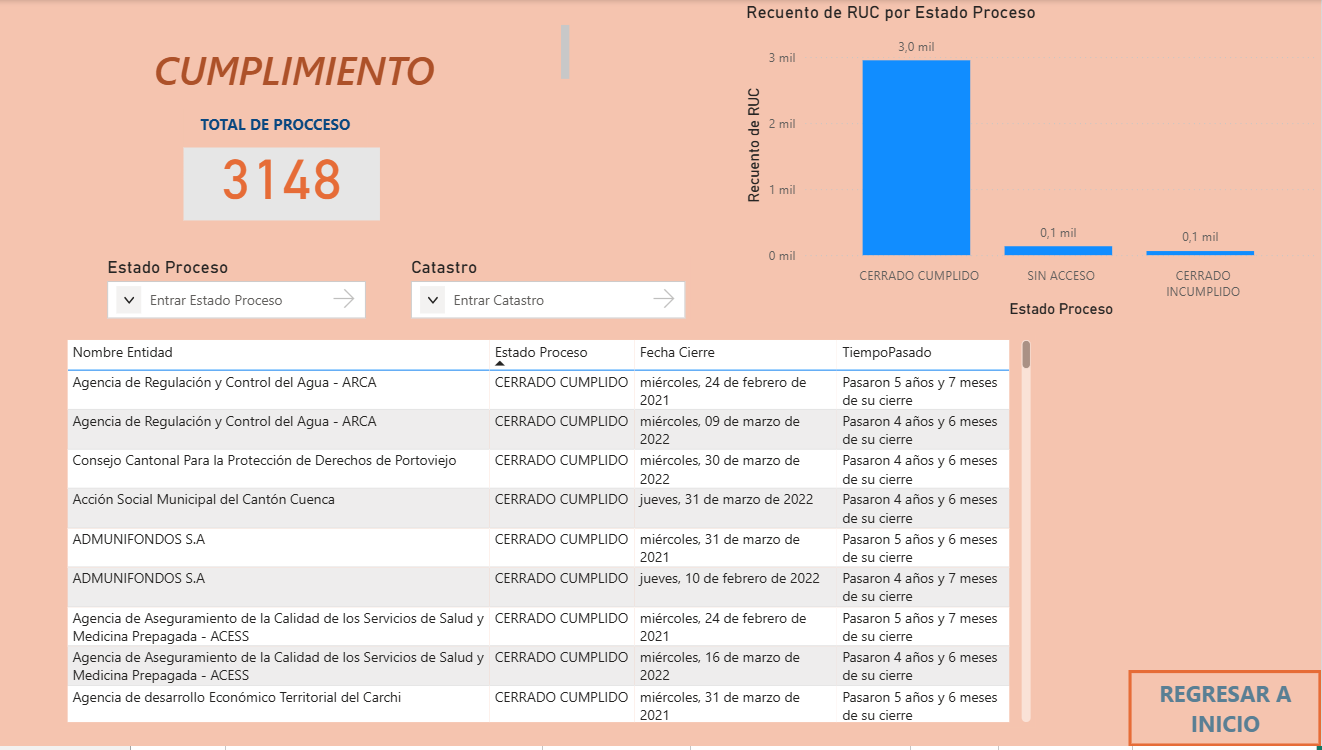

Layout of this report page (visuals, bound fields, positions):
{"tool":"powerbi","page":{"name":"Cumplimiento","canvas":[1280,720],"ordinal":2},"visuals":[{"type":"textSlicer","fields":{"Values":["DIM catastro.Catastro"]},"box":[395.7,247.3,274.7,61.6],"z":8000},{"type":"card","fields":{"Values":["CountNonNull(2020-2021.Estado Proceso)"]},"box":[180.4,141.9,189.7,70.2],"z":9000},{"type":"textbox","box":[180.4,105,177.4,37],"z":10000},{"type":"tableEx","fields":{"Values":["2020-2021.Nombre Entidad","2020-2021.Estado Proceso","2020-2021.Fecha Cierre","2020-2021.Tiempo_Pasado"]},"box":[62.7,323.3,941,378.8],"z":11000},{"type":"textSlicer","fields":{"Values":["2020-2021.Estado Proceso"]},"box":[102.5,247.3,259.1,61.4],"z":12000},{"type":"clusteredColumnChart","fields":{"Category":["2020-2021.Estado Proceso"],"Y":["CountNonNull(2020-2021.RUC)"]},"box":[719,1.2,561,310.1],"z":13000},{"type":"textbox","box":[25.3,19.3,533.3,69],"z":14000},{"type":"actionButton","box":[1092.5,646.7,187.2,73.9],"z":18000}]}

Visuals, with their boxes in screenshot pixels (x1, y1, x2, y2), scaled from the page's 1280x720 canvas onto the 1322x750 screenshot:
textSlicer - DIM catastro.Catastro: <box>409,258,692,322</box>
card - CountNonNull(2020-2021.Estado Proceso): <box>186,148,382,221</box>
textbox: <box>186,109,370,148</box>
tableEx - 2020-2021.Nombre Entidad x 2020-2021.Estado Proceso: <box>65,337,1037,731</box>
textSlicer - 2020-2021.Estado Proceso: <box>106,258,373,322</box>
clusteredColumnChart - 2020-2021.Estado Proceso x CountNonNull(2020-2021.RUC): <box>743,1,1321,324</box>
textbox: <box>26,20,577,92</box>
actionButton: <box>1128,674,1321,749</box>
